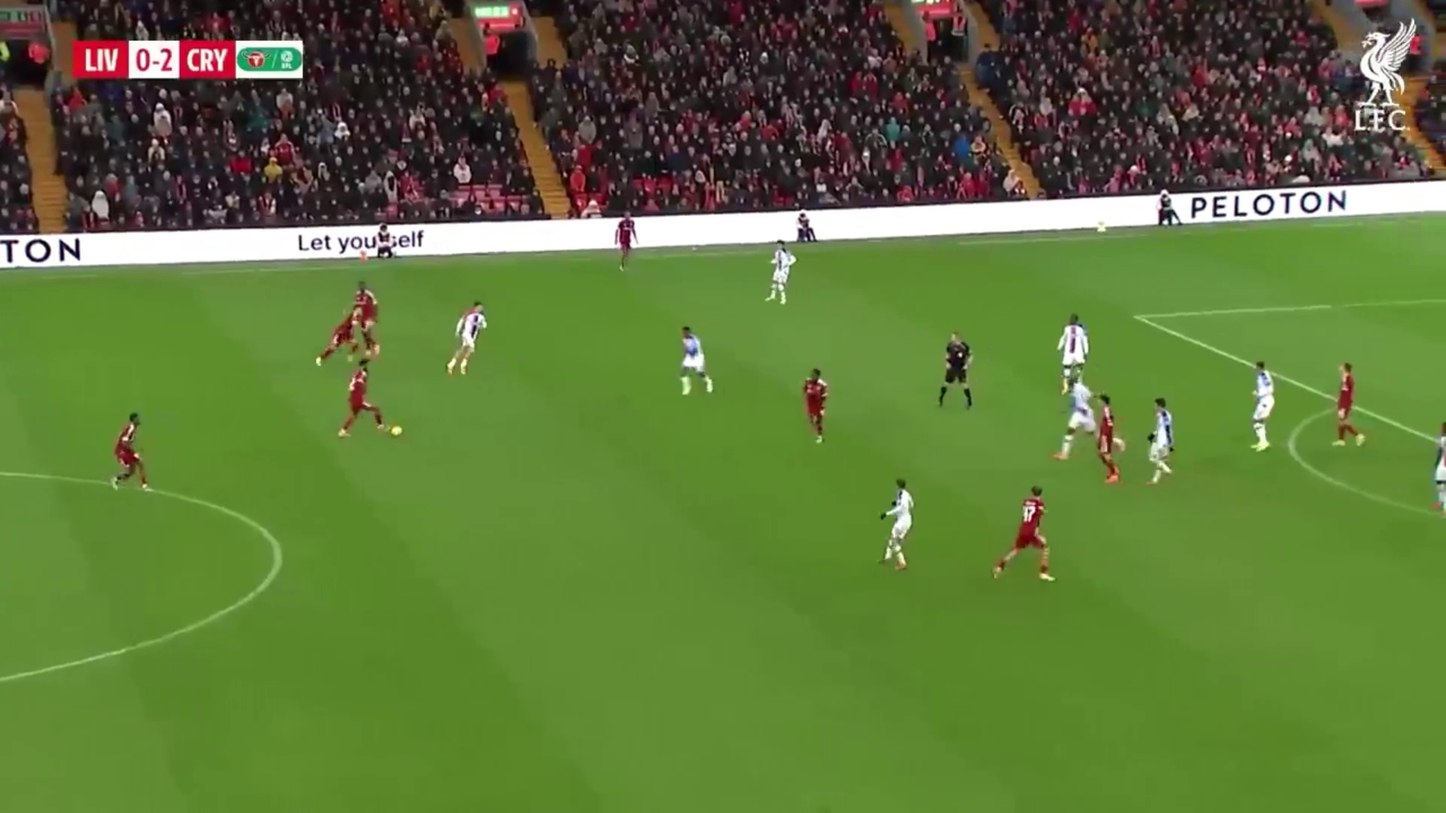player: (993, 488, 1053, 584), (317, 284, 383, 366), (1065, 392, 1123, 485), (337, 364, 403, 441), (1050, 376, 1101, 467), (444, 299, 488, 378), (881, 479, 915, 571), (937, 331, 975, 412), (112, 412, 149, 492), (1092, 395, 1123, 485), (1146, 396, 1176, 485), (1332, 361, 1362, 449), (1057, 314, 1090, 392), (1249, 361, 1276, 452), (678, 325, 710, 396), (803, 367, 830, 446), (765, 242, 796, 307), (1431, 419, 1445, 515), (616, 216, 637, 272), (795, 213, 818, 241)
